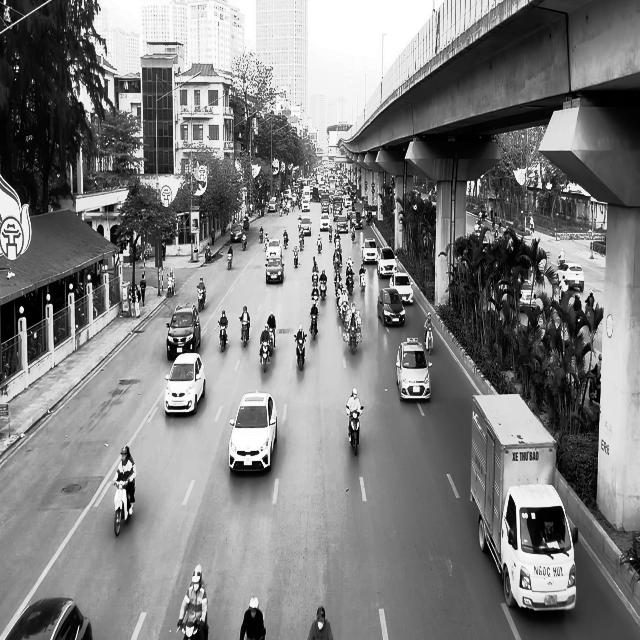car: (229, 390, 277, 473), (5, 596, 93, 640), (164, 352, 206, 416), (395, 337, 432, 401), (166, 303, 200, 360), (378, 287, 406, 326), (557, 261, 584, 292), (389, 272, 414, 305), (377, 246, 398, 278), (265, 258, 284, 284), (362, 238, 378, 263), (266, 238, 282, 263), (230, 222, 243, 242)
motorbike: (113, 477, 135, 536), (346, 405, 363, 456), (294, 333, 306, 370), (260, 340, 272, 372), (239, 318, 250, 347), (218, 321, 228, 352), (424, 326, 434, 354), (309, 314, 318, 340), (266, 325, 275, 350), (197, 286, 206, 310), (359, 268, 366, 293), (227, 252, 233, 270), (205, 249, 212, 262)
truck: (469, 392, 578, 613)
